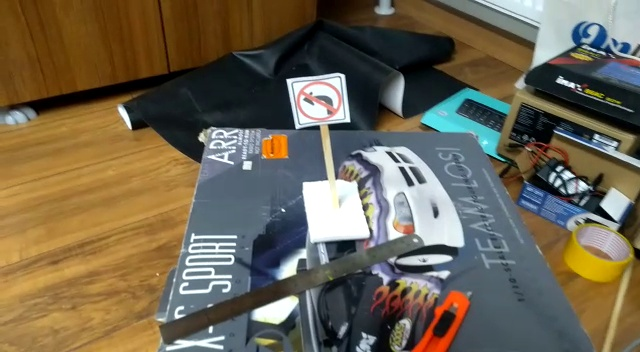sola_donulmez: (299, 81, 339, 125)
